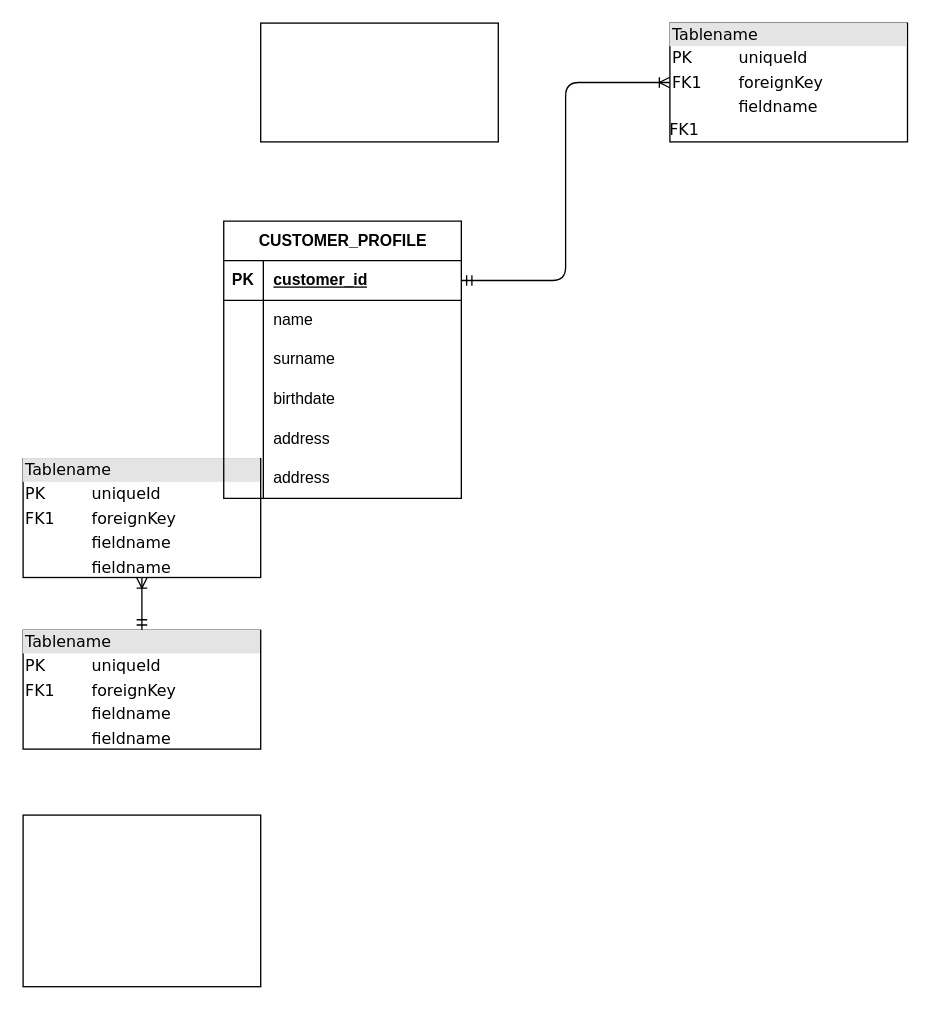
Some shapes in this 931 by 1010 pixel diagram are drawn without their labels. The centre of each missing label's shape, as x and y in pixels:
CUSTOMER_PROFILE PK customer_id FK1 foreignKey fieldname: [378,82]
Tablename PK uniqueId FK1 foreignKey fieldname fieldname fieldname fieldname: [141,900]
